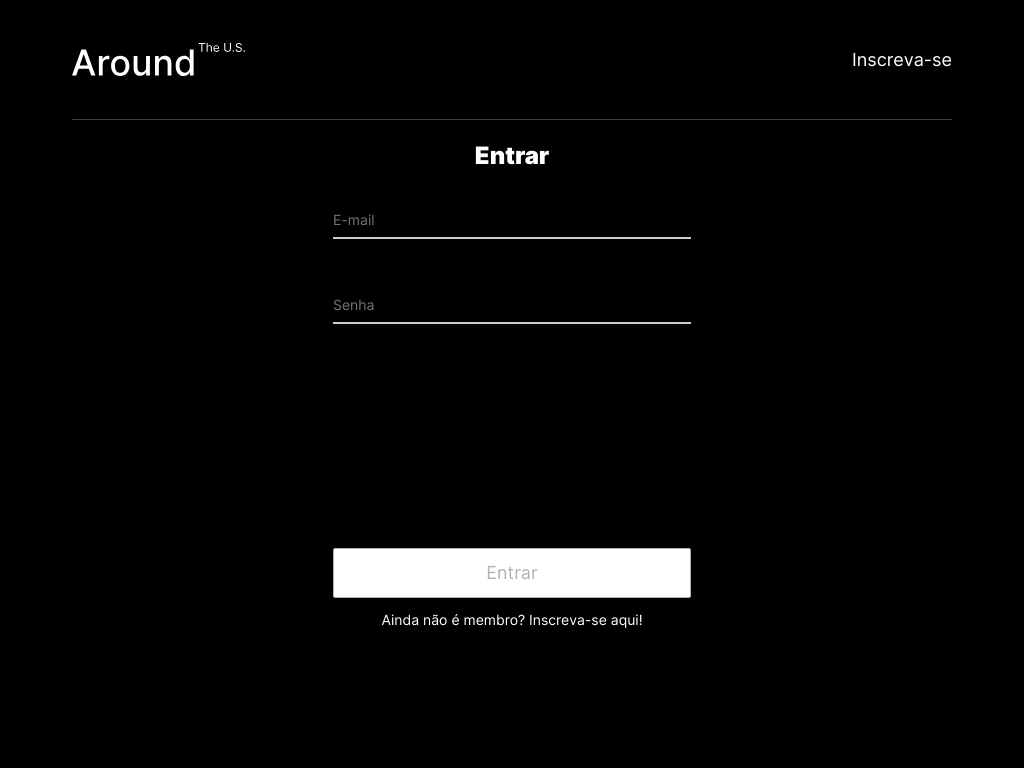
Test case: Login › mostra erro de rede sem buscar dados privados
The image size is (1024, 768).
Click the field with placeholder "E-mail" at {"x": 512, "y": 216}, box [333,192,691,239]
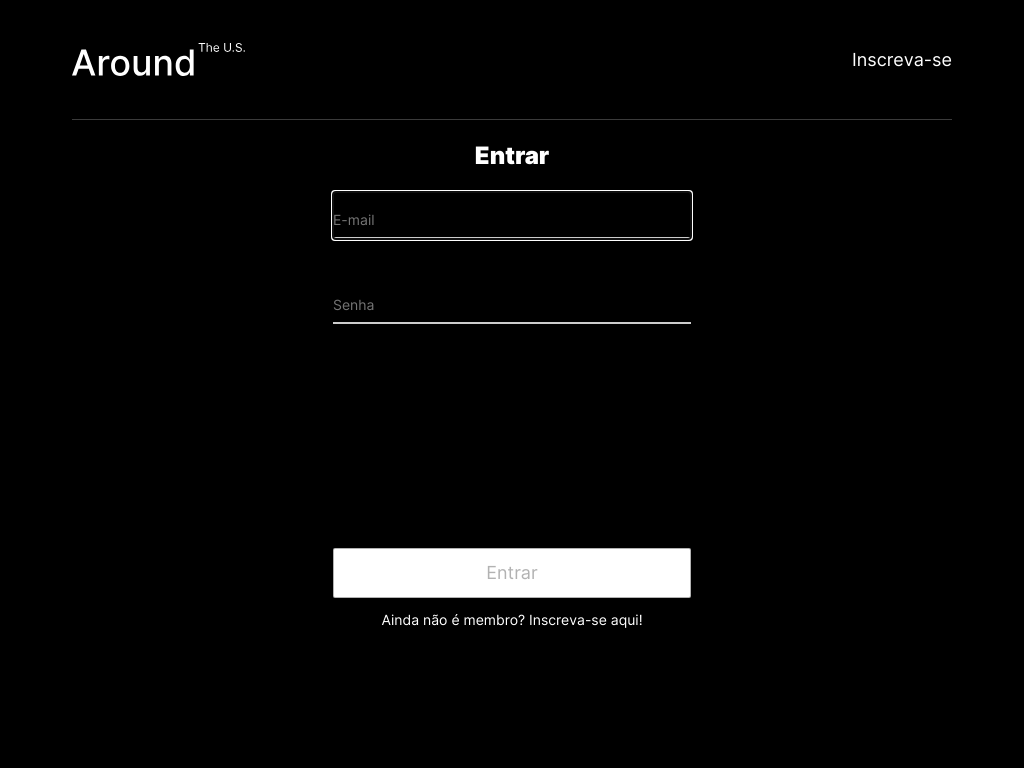
Type keys "ana@example.com"
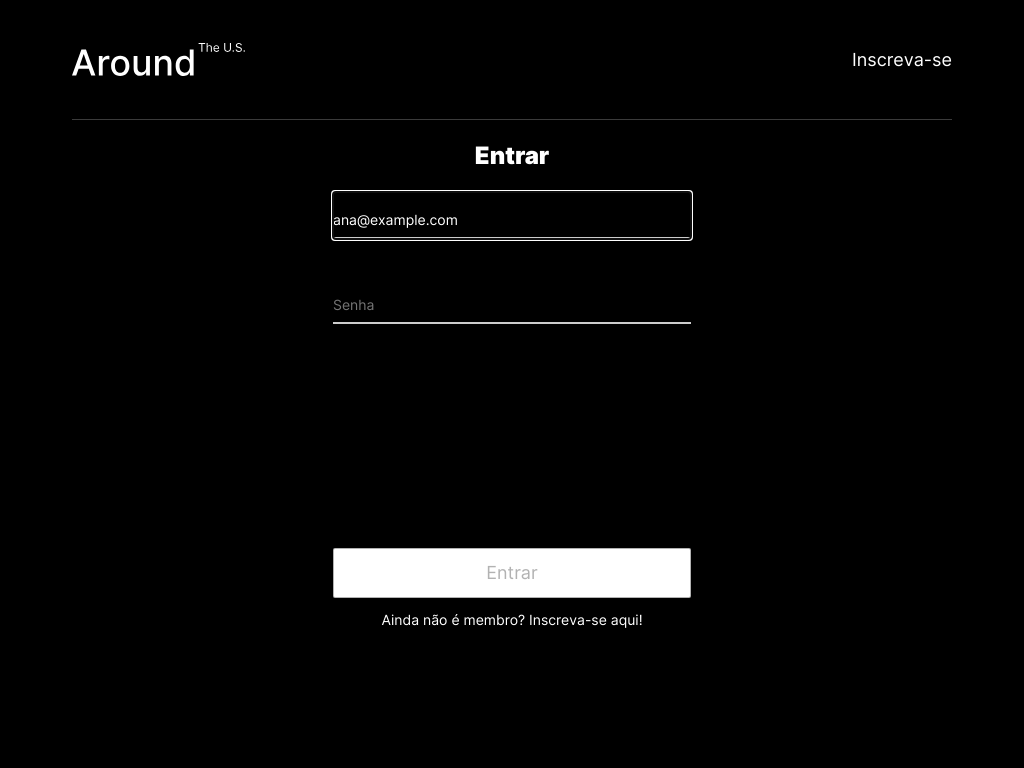
Click the password field with placeholder "Senha" at {"x": 512, "y": 300}, box [333,277,691,324]
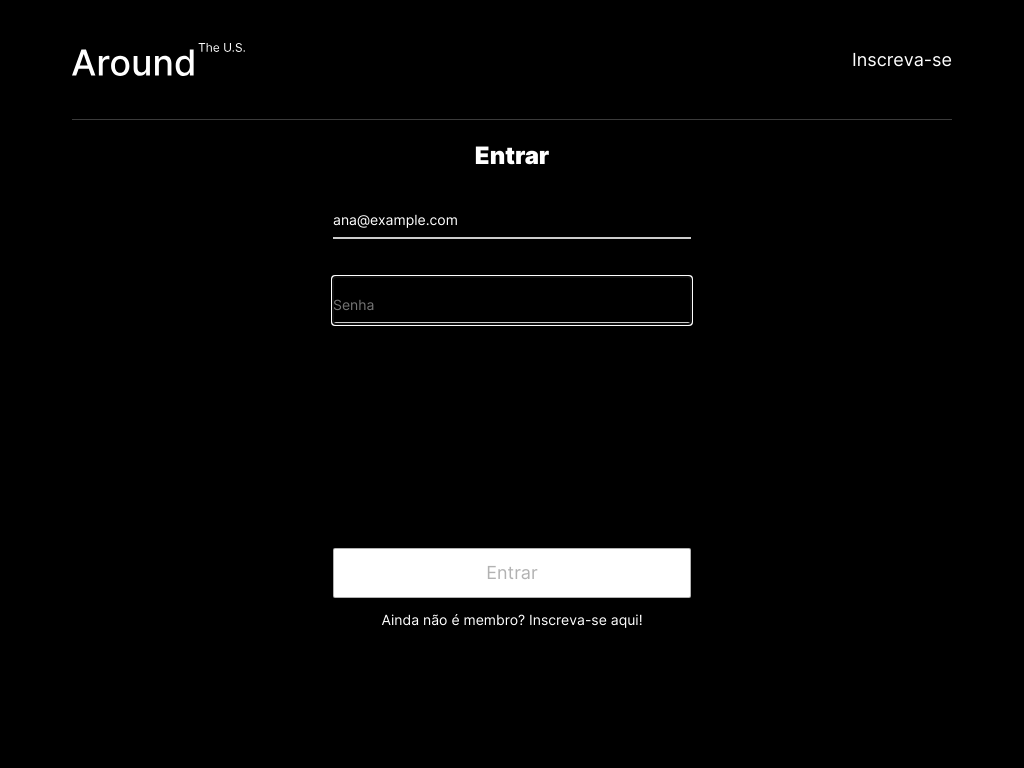
Type keys "Password123"
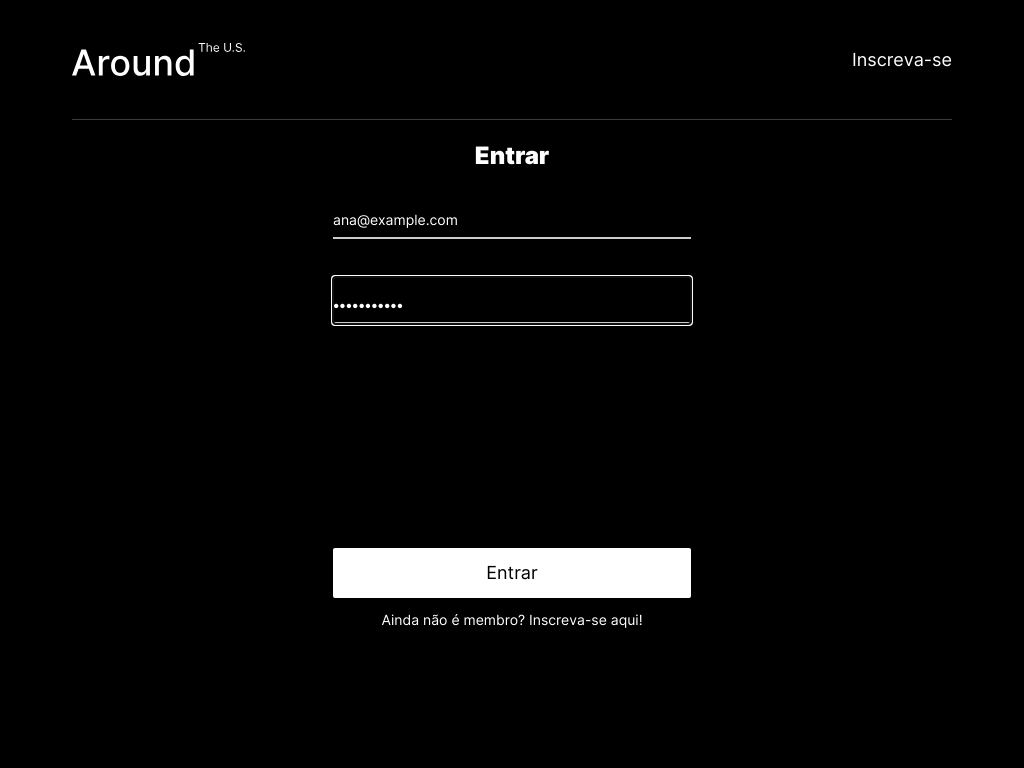
Click the button "Entrar" at {"x": 512, "y": 573}, box [333,548,691,598]
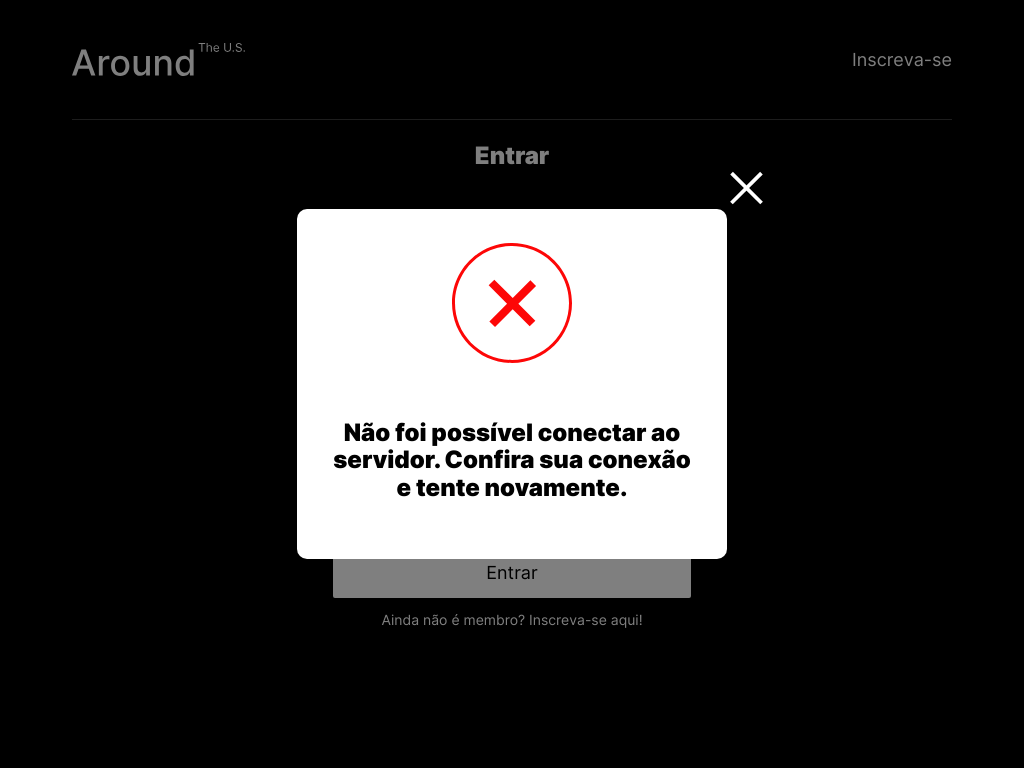
Expected: the button "Entrar" is enabled, [333,548,691,598]
Expected: the heading "Não foi possível conectar ao servidor. Confira sua conexão e tente novamente." is shown, [333,419,691,501]
